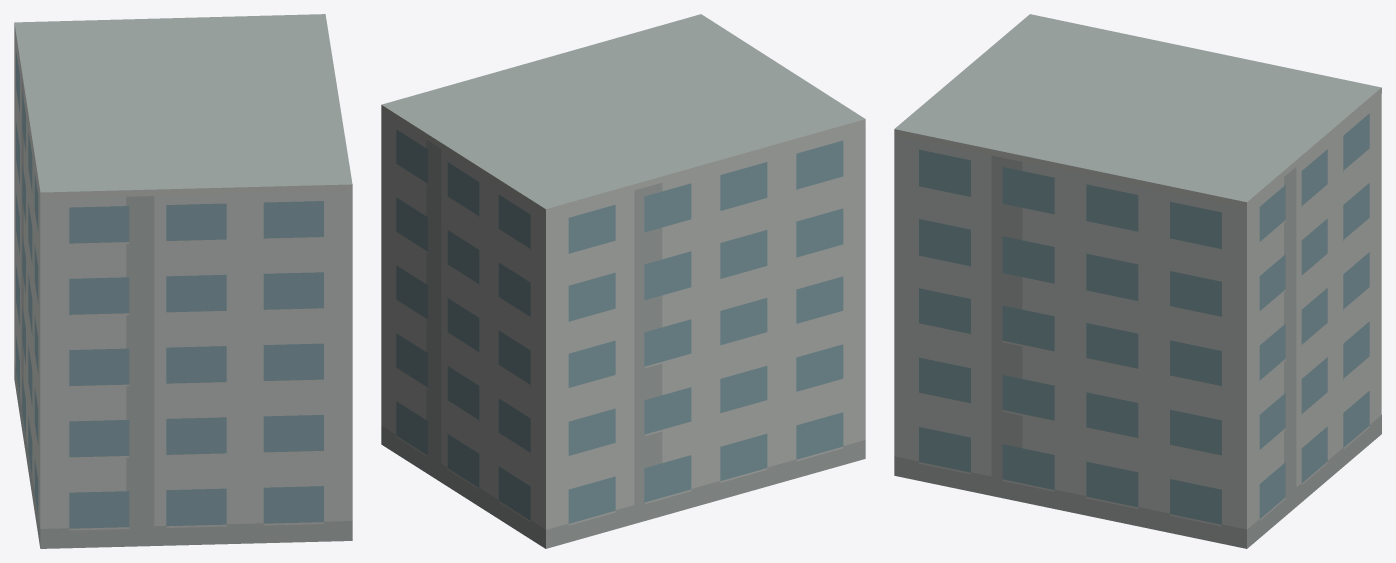
The model's file is survey-upis-32886617.glb.
3 renders of one model, left to right at view 1: azimuth 30°, elevation 25°; view 2: azimuth 150°, elevation 25°; view 3: azimuth 270°, elevation 25°, orthographic. The views are drawn at different scales.
Parts seen in each view (by area): view 1: survey-upis-32886617.tmp; view 2: survey-upis-32886617.tmp; view 3: survey-upis-32886617.tmp.
Part boxes in pixels (left/top/right/bottom): survey-upis-32886617.tmp: left=14, top=14, right=352, bottom=548; survey-upis-32886617.tmp: left=381, top=14, right=865, bottom=548; survey-upis-32886617.tmp: left=894, top=14, right=1381, bottom=548.
Size of the model in its own units: 15.62 by 13.4 by 17.09.
